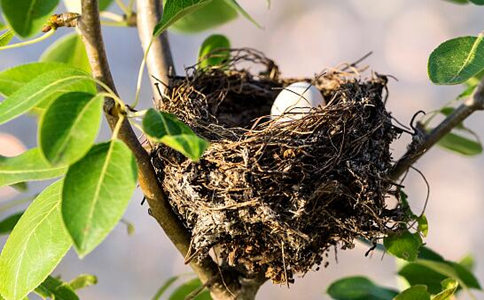bird-nest: (145, 64, 406, 280)
